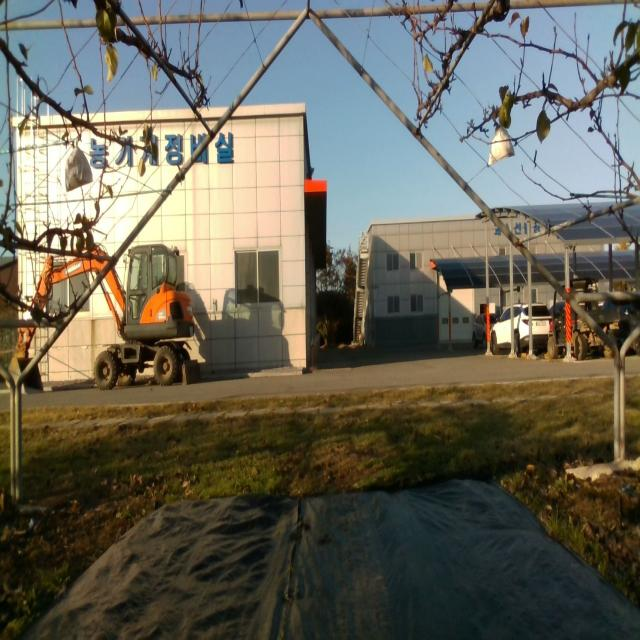pearbags: (65, 139, 92, 190), (486, 126, 515, 168)
